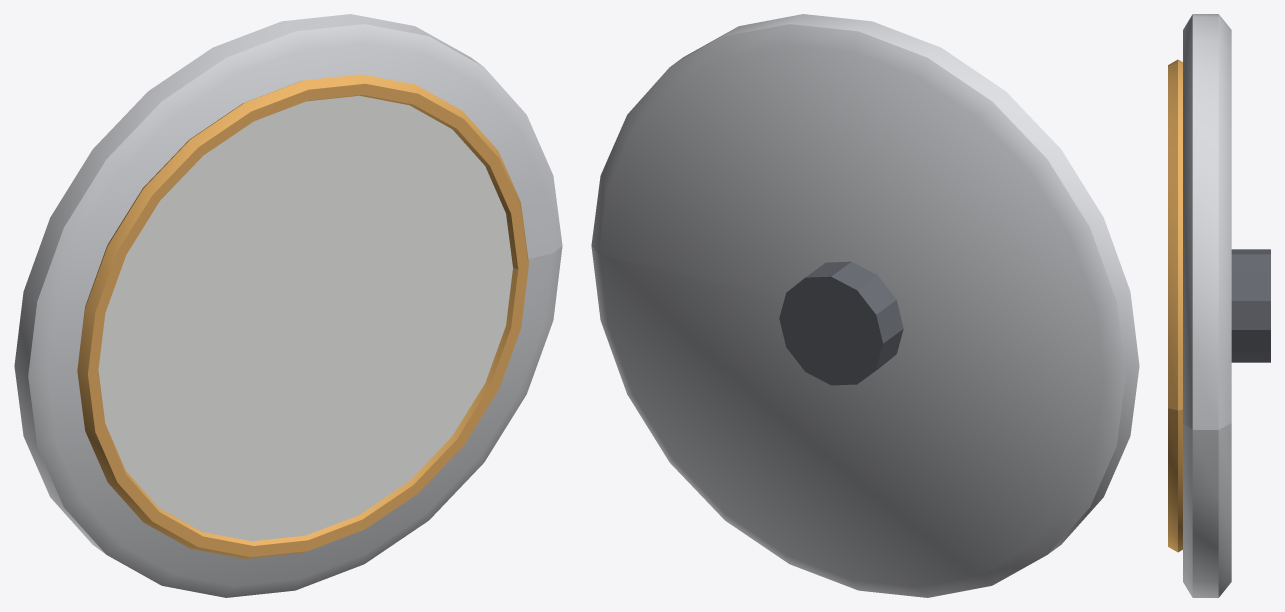
Rendered from floor_number_sign.glb.
The picture shows the model from 3 angles, left to right: view 1: azimuth 30°, elevation 25°; view 2: azimuth 150°, elevation 25°; view 3: azimuth 270°, elevation 25°; orthographic projection. The views are drawn at different scales.
Parts seen in each view (by area): view 1: floor-number-sign; view 2: floor-number-sign; view 3: floor-number-sign.
Part boxes in pixels (<box>): floor-number-sign: <box>14,14,562,597</box>; floor-number-sign: <box>591,14,1139,597</box>; floor-number-sign: <box>1168,14,1270,597</box>.
Size of the model in its own units: 0.36 by 0.36 by 0.0631.
